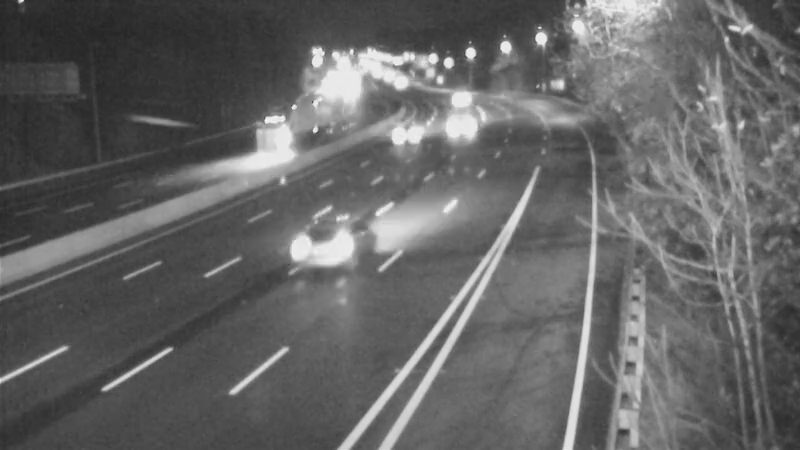vehicle: (287, 200, 367, 280), (436, 69, 486, 119), (434, 92, 484, 142), (371, 104, 421, 154), (253, 121, 303, 171)
